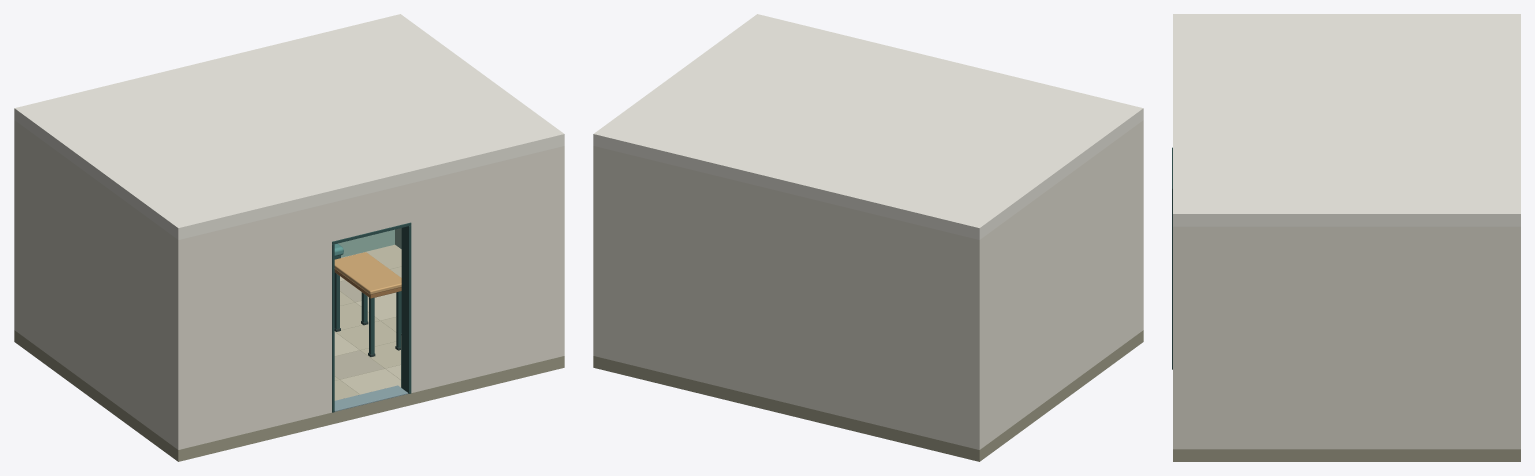
The model's file is FirstAidRoom.fbx.
3 views of the same model, side by side, from view 1: azimuth 30°, elevation 25°; view 2: azimuth 150°, elevation 25°; view 3: azimuth 270°, elevation 25° (orthographic). The views are drawn at different scales.
Parts seen in each view (by area): view 1: COL_Ceiling, COL_Wall_Front_Left, COL_Wall_Front_Right, COL_Wall_Left, COL_Floor, Floor finish, COL_Wall_Front_Header, Door jamb.001, COL_Supply_Table, COL_Wall_Back, Back wainscot, Entry threshold; view 2: COL_Wall_Back, COL_Ceiling, COL_Wall_Left, COL_Floor, COL_Wall_Front_Left; view 3: COL_Ceiling, COL_Wall_Right, COL_Floor, COL_Wall_Back, COL_Wall_Front_Right.
Part boxes in pixels (left/top/right/bottom): COL_Ceiling: left=14, top=14, right=564, bottom=239; COL_Wall_Front_Left: left=171, top=202, right=334, bottom=449; COL_Wall_Front_Right: left=408, top=146, right=564, bottom=392; COL_Wall_Left: left=21, top=125, right=171, bottom=444; COL_Floor: left=14, top=266, right=564, bottom=461; Floor finish: left=334, top=244, right=401, bottom=400; COL_Wall_Front_Header: left=334, top=184, right=408, bottom=240; Door jamb.001: left=401, top=225, right=411, bottom=393; COL_Supply_Table: left=334, top=252, right=401, bottom=294; COL_Wall_Back: left=14, top=120, right=20, bottom=334; Back wainscot: left=338, top=229, right=394, bottom=257; Entry threshold: left=334, top=385, right=408, bottom=411; COL_Wall_Back: left=593, top=146, right=986, bottom=449; COL_Ceiling: left=593, top=14, right=1143, bottom=239; COL_Wall_Left: left=986, top=125, right=1136, bottom=444; COL_Floor: left=593, top=330, right=1143, bottom=461; COL_Wall_Front_Left: left=1137, top=120, right=1143, bottom=334; COL_Ceiling: left=1173, top=14, right=1520, bottom=226; COL_Wall_Right: left=1187, top=226, right=1506, bottom=449; COL_Floor: left=1173, top=449, right=1520, bottom=461; COL_Wall_Back: left=1507, top=226, right=1520, bottom=449; COL_Wall_Front_Right: left=1173, top=226, right=1186, bottom=449.
Bounding box in the file's own units: 5.1 × 2.95 × 3.76.
